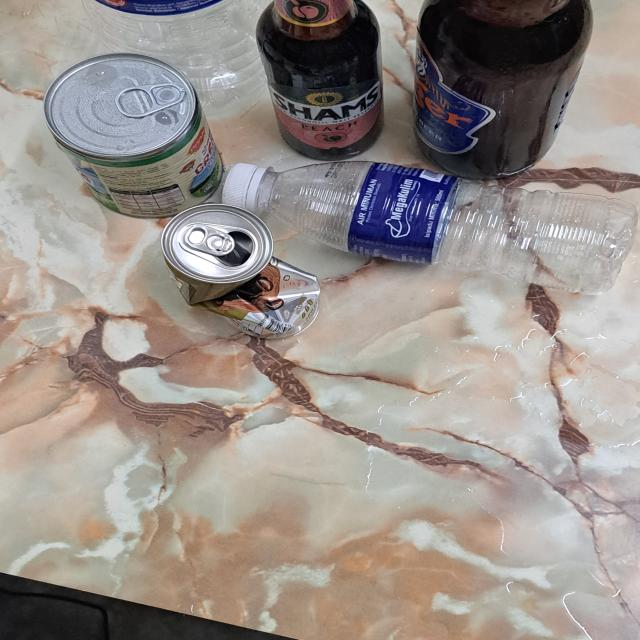can: (45, 53, 225, 218), (160, 202, 322, 340)
glass bottle: (410, 0, 591, 179), (256, 0, 387, 159)
plastic bottle: (264, 162, 636, 295), (91, 0, 263, 116)
plastic bottle cap: (223, 163, 258, 210)
pop tab: (116, 83, 186, 119), (181, 224, 235, 255)
